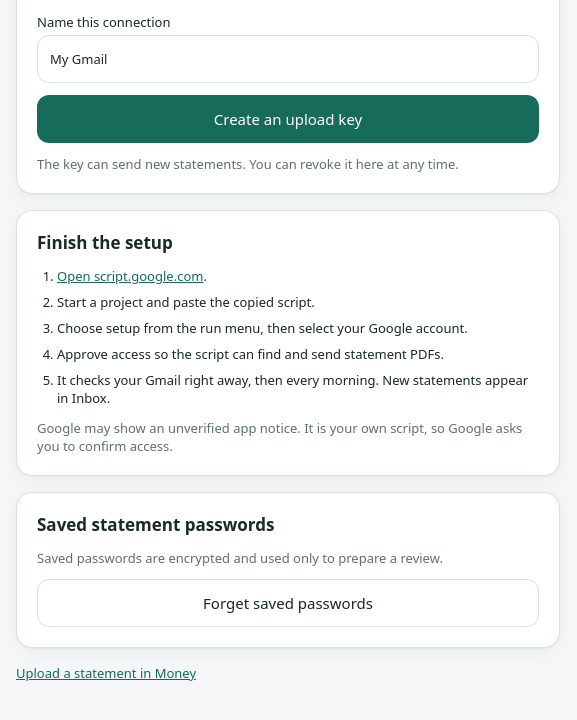
Test: Gmail statement settings › lets an owner forget saved passwords
The width and height of the screenshot is (577, 720).
(page scrolled)
Click the button "Forget saved passwords": x=288, y=603 [37,579,539,627]
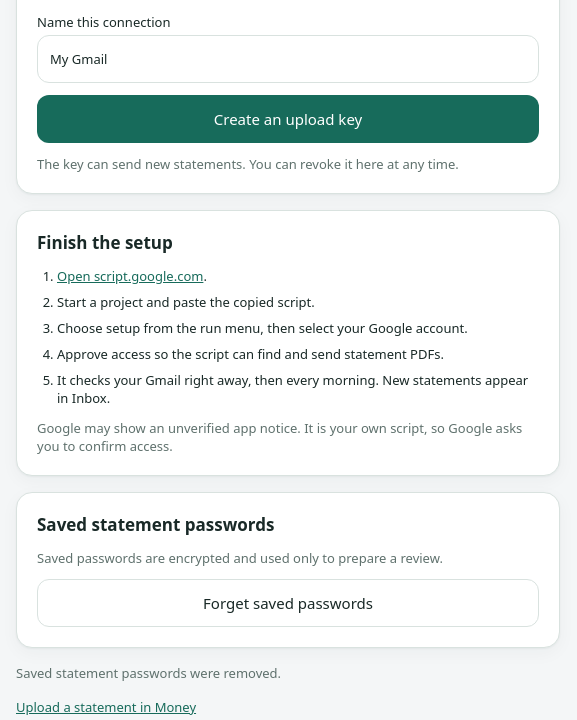
Check: the text "Saved statement passwords were removed." is shown, box [16,664,281,682]
